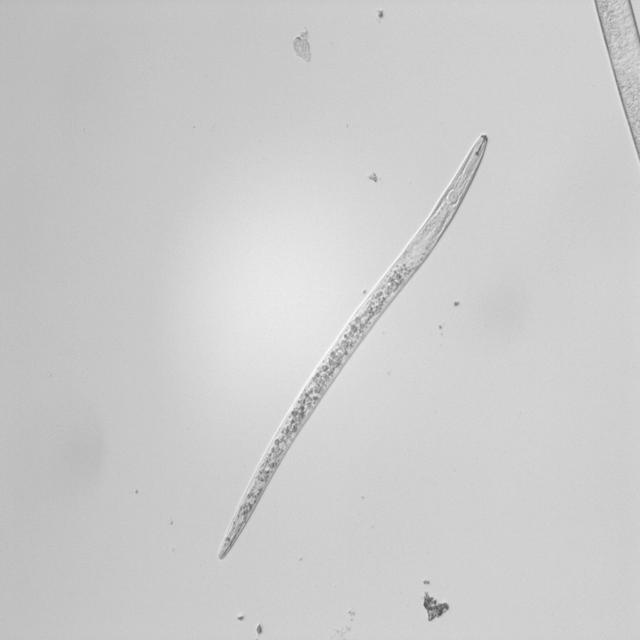Pratylenchus: (214, 130, 492, 569)
